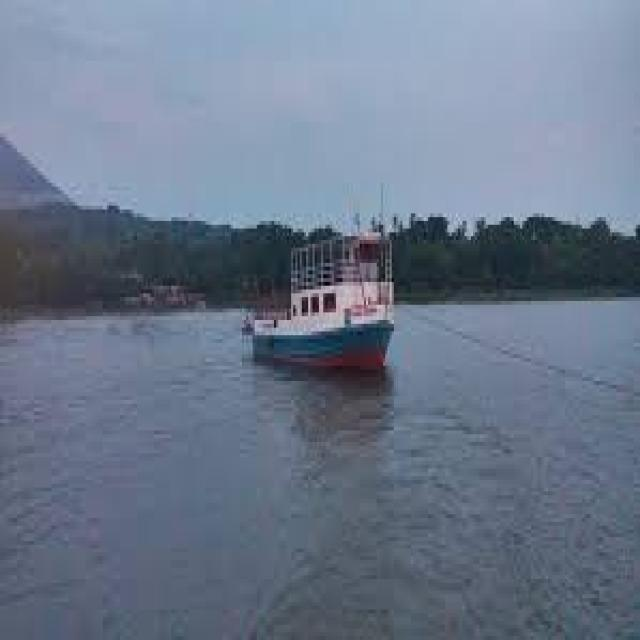houseboat: (242, 190, 401, 382)
